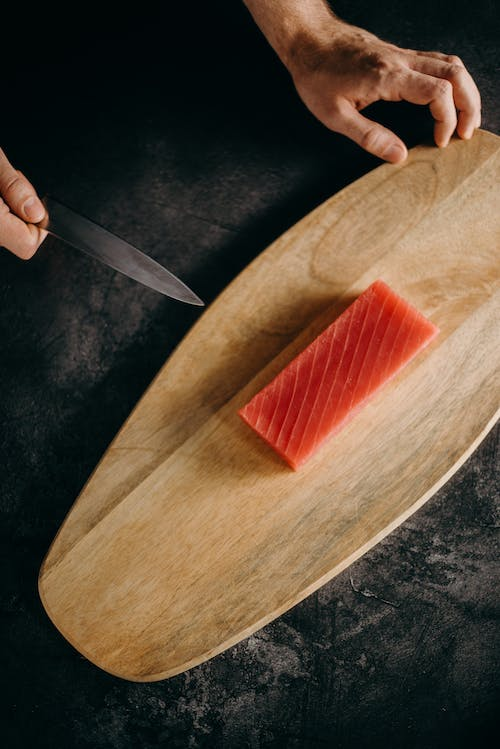knife: (36, 193, 207, 308)
